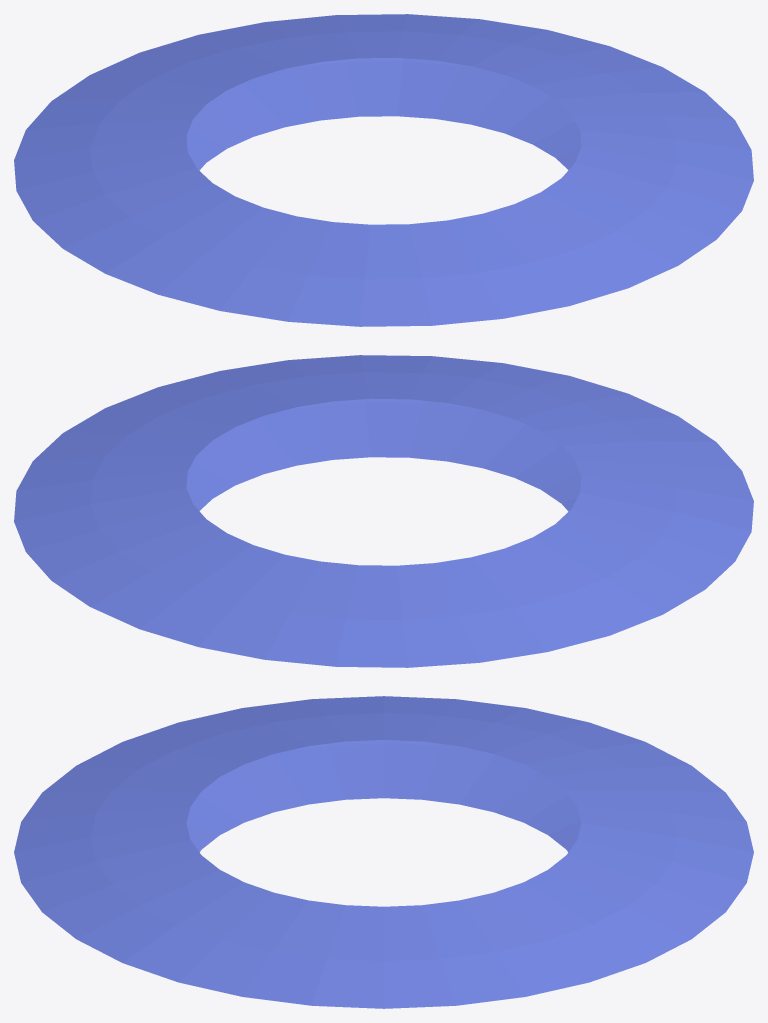
The model's file is weapon_flashing_02.fbx.
3 renders of one model, top to bottom at view 1: azimuth 30°, elevation 25°; view 2: azimuth 150°, elevation 25°; view 3: azimuth 270°, elevation 25°, orthographic.
Visible parts, largest first — view 1: WeaponFlashing; view 2: WeaponFlashing; view 3: WeaponFlashing.
Part boxes in pixels (x1,y1,x2,y2): WeaponFlashing: (14,14,753,326); WeaponFlashing: (14,355,753,667); WeaponFlashing: (14,696,753,1008).
Size of the model in its own units: 214 by 18.62 by 214.
